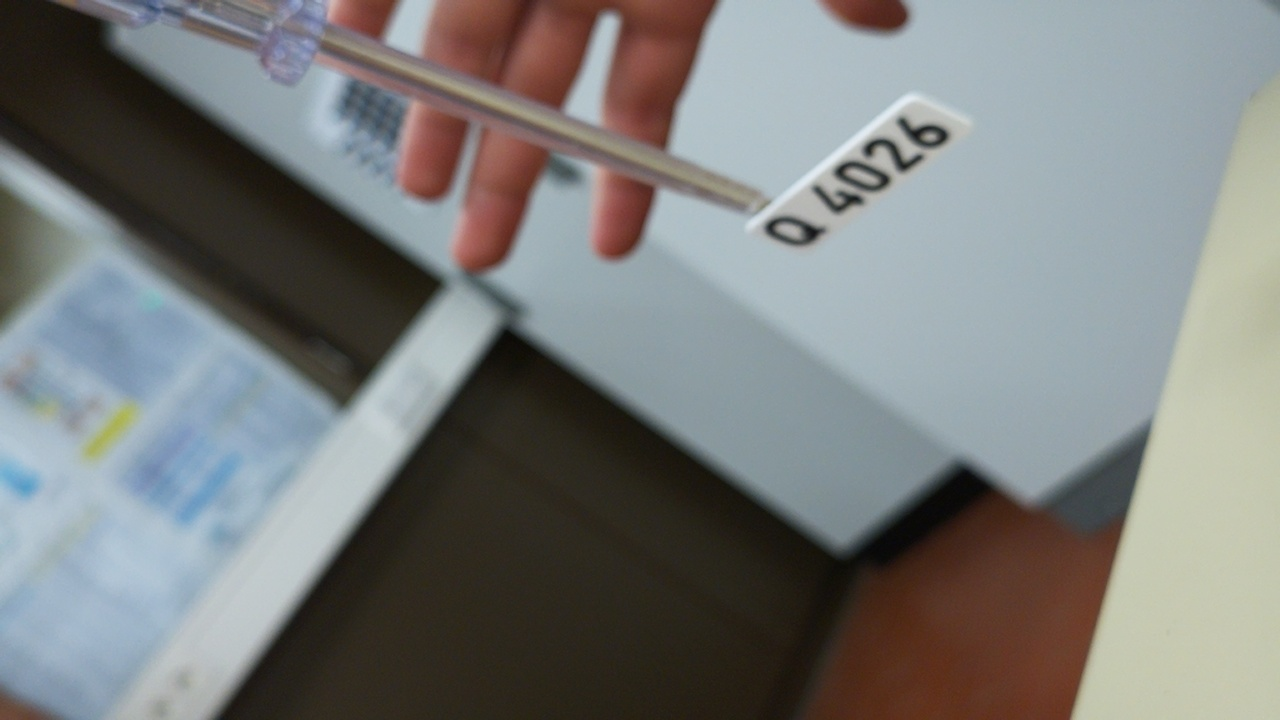license_plate: (745, 85, 974, 261)
